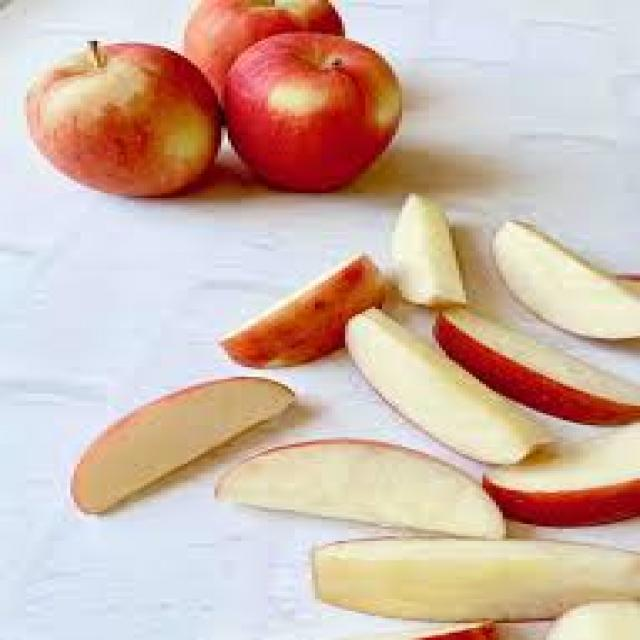Apple: (284, 518, 640, 624), (340, 305, 554, 468), (217, 430, 504, 546), (27, 37, 220, 200), (69, 378, 298, 508), (230, 30, 408, 186), (212, 258, 398, 372), (486, 217, 640, 338), (486, 425, 640, 523), (182, 0, 348, 90), (375, 194, 471, 310)
